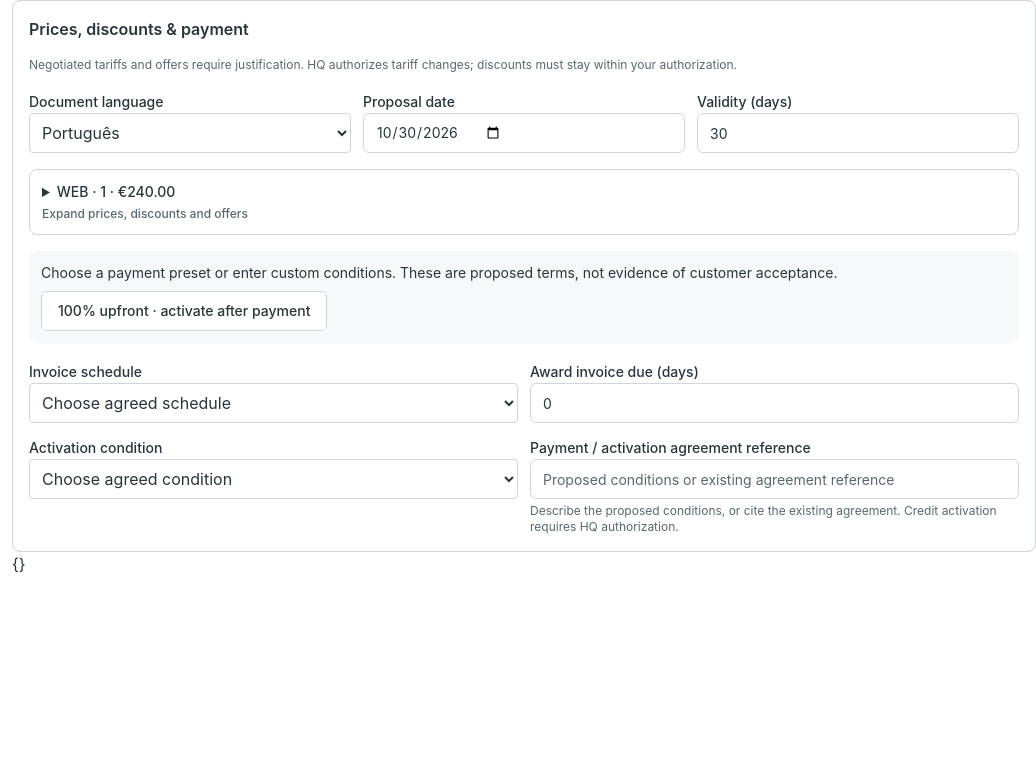
Test: Explicit discount scope › edits an upfront preset to split billing without retaining an obsolete upfront claim
The width and height of the screenshot is (1036, 768).
Click the button "100% upfront · activate after payment": (184,311) [41, 291, 327, 331]
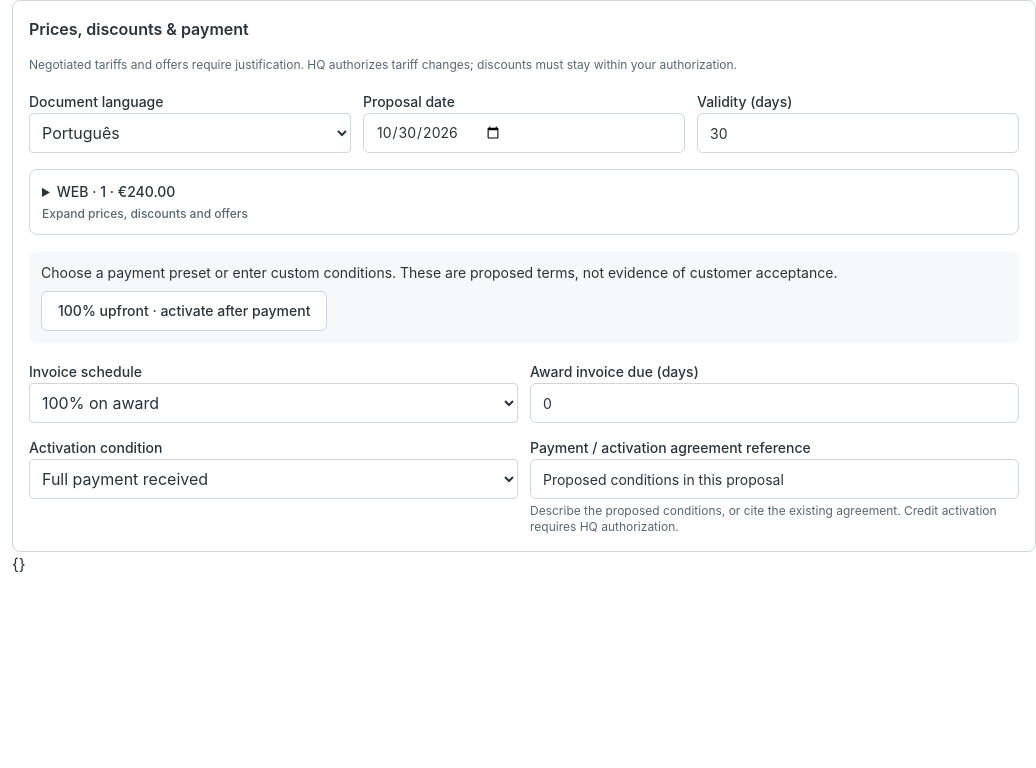
Select "Award + installation" in the dropdown labelled "Invoice schedule": (274,403) [29, 383, 518, 423]
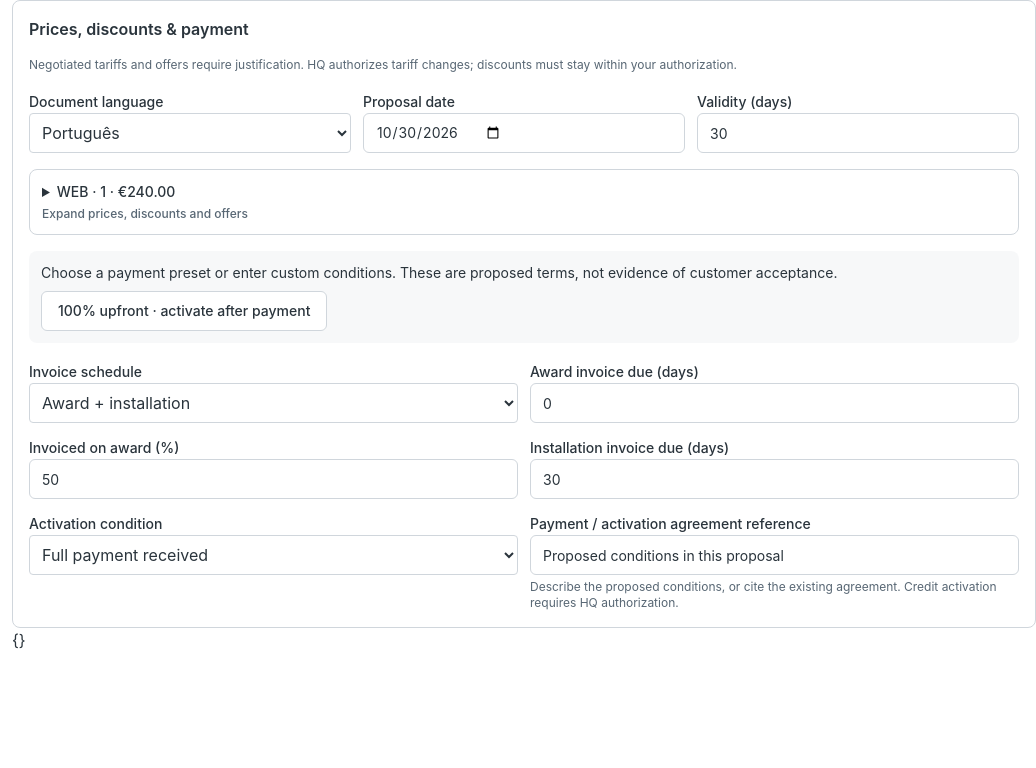
Check: the field labelled "Payment / activation agreement reference" holds "Proposed conditions in this proposal", box [530, 535, 1019, 575]
Check: the number field labelled "Invoiced on award (%)" holds "50", box [29, 459, 518, 499]
